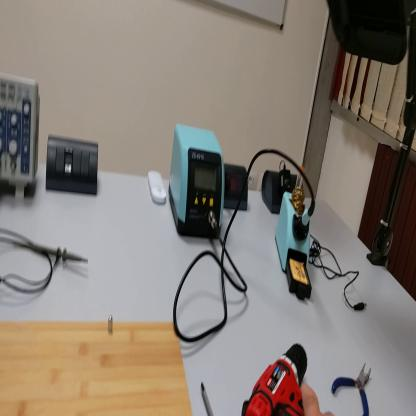electric screwdriver: (243, 342, 309, 416)
hand: (299, 384, 337, 415)
oscilloscope: (2, 68, 42, 201)
oscilloscope probe tip: (21, 239, 91, 266)
pliers: (332, 363, 374, 415)
screwdriver-: (202, 383, 214, 415)
socket: (262, 166, 297, 215), (225, 166, 250, 210)
welder base: (274, 169, 318, 305)
welder probe tip: (299, 203, 316, 235)
welder station: (170, 124, 225, 245)
working area: (3, 316, 193, 414)
